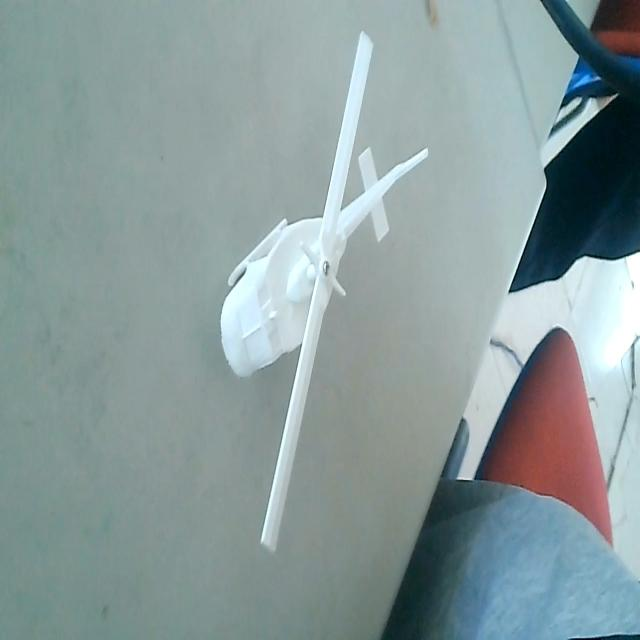Helicopter: (212, 22, 429, 560)
